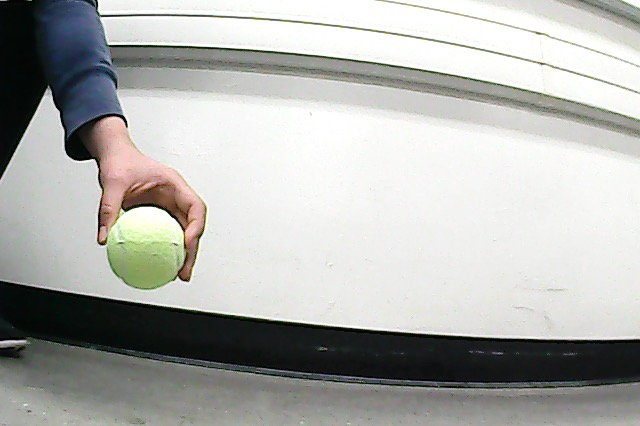ball: (106, 206, 190, 291)
